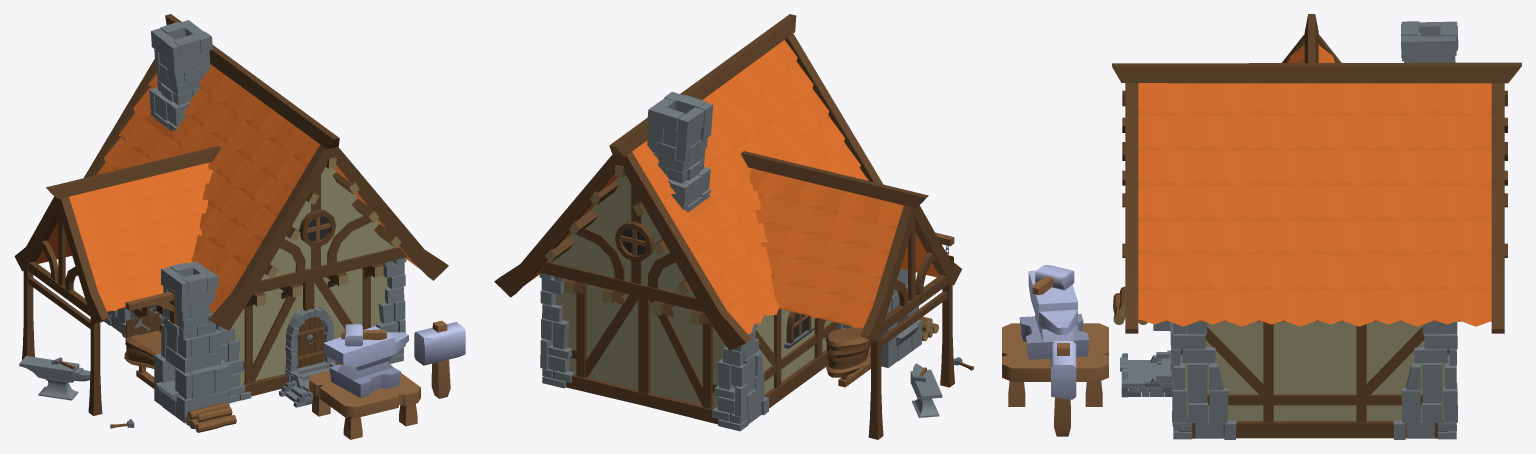
The model's file is workshop.glb.
The picture shows the model from 3 angles, left to right: view 1: azimuth 30°, elevation 25°; view 2: azimuth 150°, elevation 25°; view 3: azimuth 270°, elevation 25°; orthographic projection. The views are drawn at different scales.
Visible parts, largest first — view 1: Blacksmith, workbench-anvil, tool-hammer, hammer; view 2: Blacksmith; view 3: Blacksmith, workbench-anvil, tool-hammer, hammer.
Boxes of the visible parts, x1=… form: Blacksmith: x1=14, y1=14, x2=448, y2=432; workbench-anvil: x1=309, y1=326, x2=420, y2=439; tool-hammer: x1=414, y1=320, x2=465, y2=398; hammer: x1=341, y1=324, x2=386, y2=346; Blacksmith: x1=494, y1=14, x2=973, y2=439; Blacksmith: x1=1112, y1=14, x2=1521, y2=439; workbench-anvil: x1=1002, y1=269, x2=1108, y2=406; tool-hammer: x1=1051, y1=341, x2=1076, y2=436; hammer: x1=1032, y1=265, x2=1074, y2=294.
Size of the model in its own units: 2.6 by 2.01 by 2.78.
Materials: 10 (2 with a texture image).
